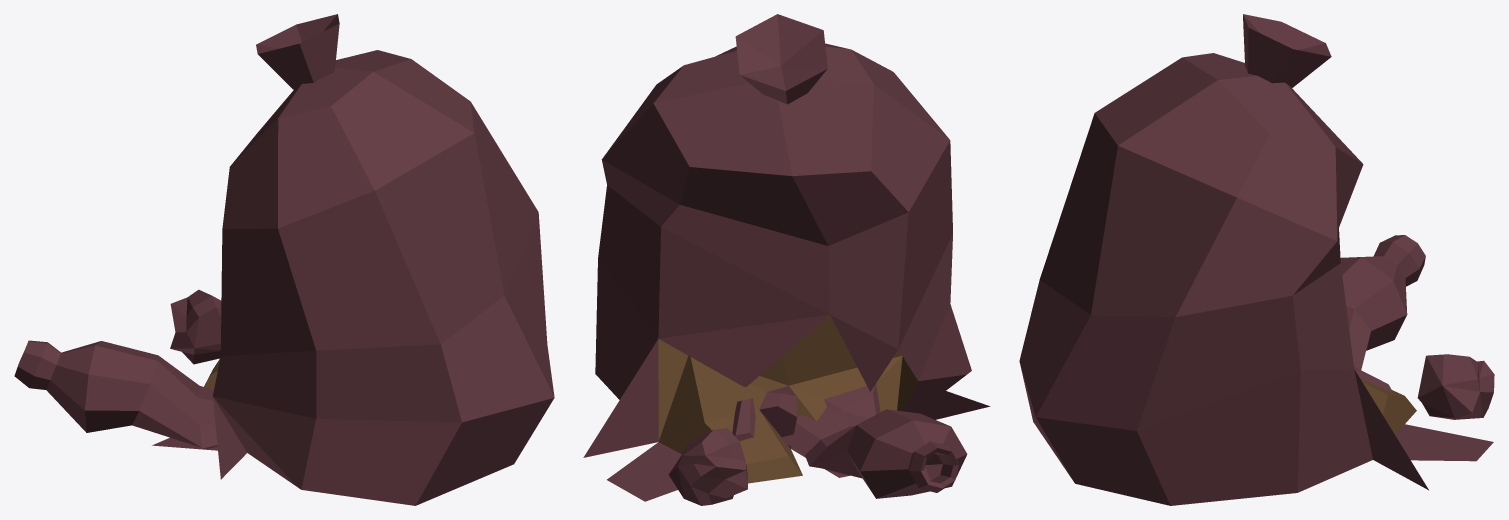
The model's file is apocalypse-garbage-open-b.glb.
3 renders of one model, left to right at view 1: azimuth 30°, elevation 25°; view 2: azimuth 150°, elevation 25°; view 3: azimuth 270°, elevation 25°, orthographic. The views are drawn at different scales.
Visible parts, largest first — view 1: garbage-open-b; view 2: garbage-open-b; view 3: garbage-open-b.
Boxes of the visible parts, bbox=[...] form: garbage-open-b: bbox=[14, 14, 554, 505]; garbage-open-b: bbox=[583, 14, 990, 505]; garbage-open-b: bbox=[1019, 14, 1494, 505].
Bounding box in the file's own units: 0.5636 × 0.5212 × 0.5459.
